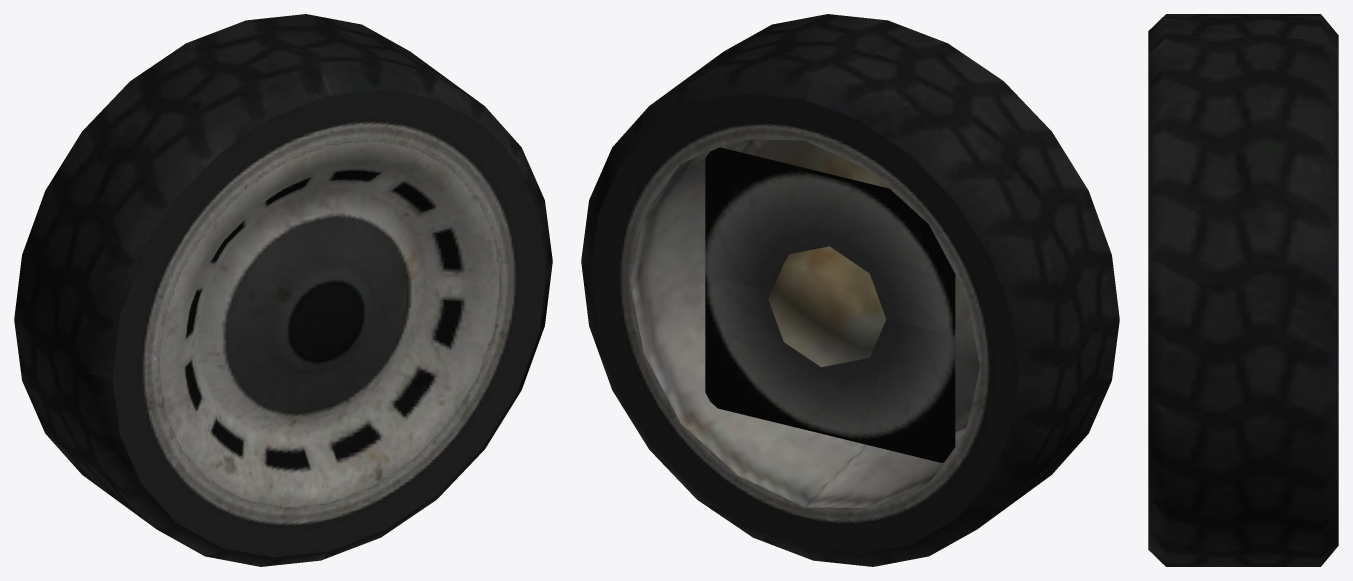
The model's file is V_A_ExoticMuscle_Wheel_5_SkeletalMesh3_SkeletalMesh_1.psk.glb.
3 views of the same model, side by side, from view 1: azimuth 30°, elevation 25°; view 2: azimuth 150°, elevation 25°; view 3: azimuth 270°, elevation 25° (orthographic). The views are drawn at different scales.
Bounding box in the file's own units: 73.7 × 73.7 × 25.29.
2 materials, 2 textured.
